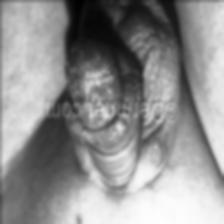Toxin: (61, 46, 108, 92), (78, 118, 124, 142), (134, 136, 170, 166)
